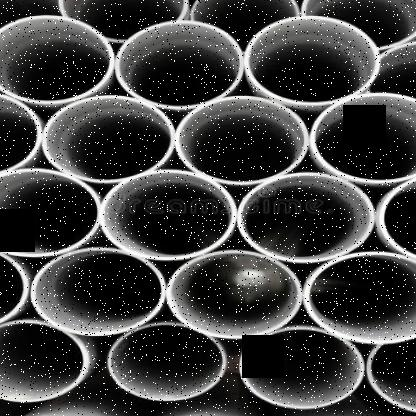pipe: (100, 170, 236, 261), (237, 172, 374, 262), (165, 250, 303, 339), (175, 96, 310, 185), (245, 16, 379, 105), (31, 247, 166, 335), (42, 95, 176, 183), (116, 20, 242, 110), (303, 250, 416, 344), (240, 326, 366, 409), (0, 16, 114, 105), (309, 92, 416, 183), (107, 322, 226, 401), (0, 168, 100, 257), (0, 318, 90, 402), (301, 0, 416, 50), (190, 0, 300, 52), (59, 0, 190, 43), (366, 325, 416, 414), (377, 170, 416, 265), (0, 94, 43, 174), (0, 0, 61, 23)
